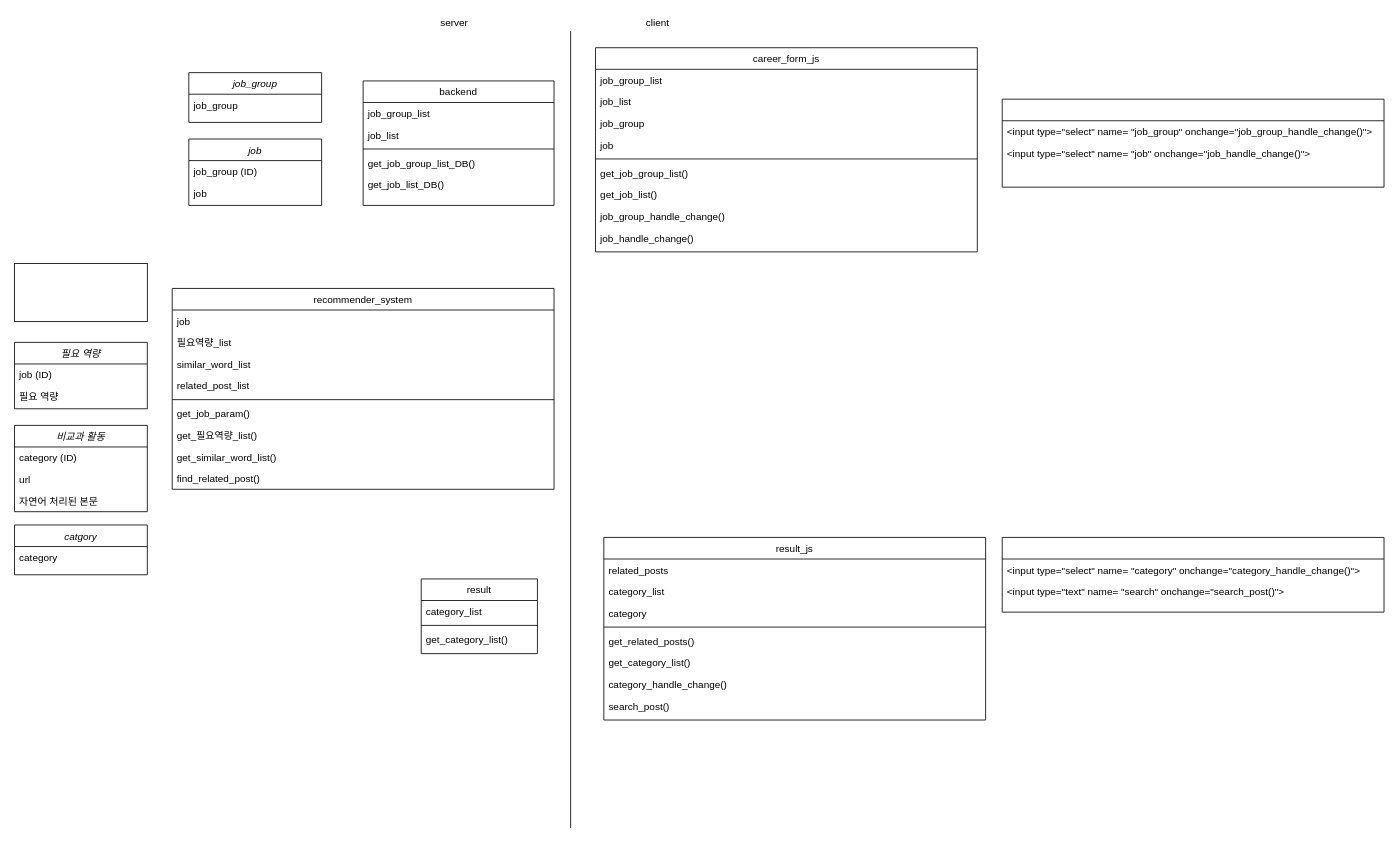
Some shapes in this 1399 by 843 pixel diagram are drawn without their labels. Each missing label, with the centre of its shape:
career_form_html: (1192,142)
result_html: (1192,574)
word web: (80,292)
